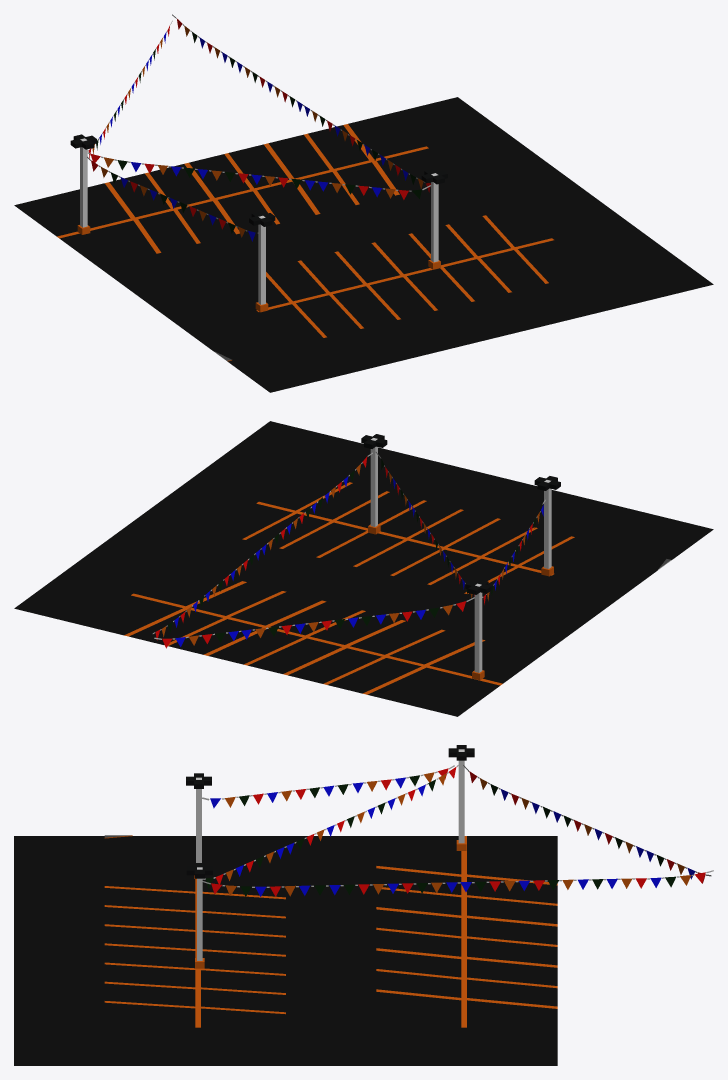
The model's file is 0C_sepg_rn.obj.
The picture shows the model from 3 angles, top to bottom: view 1: azimuth 30°, elevation 25°; view 2: azimuth 150°, elevation 25°; view 3: azimuth 270°, elevation 25°; orthographic projection. The views are drawn at different scales.
Visible parts, largest first — view 1: 0C_sepg_rn_Grid.016; view 2: 0C_sepg_rn_Grid.016; view 3: 0C_sepg_rn_Grid.016.
Boxes of the visible parts, x1,y1,x2,y2 form: 0C_sepg_rn_Grid.016: (14, 14, 713, 392); 0C_sepg_rn_Grid.016: (14, 421, 713, 716); 0C_sepg_rn_Grid.016: (14, 745, 713, 1065).
Size of the model in its own units: 16 by 3.19 by 20.6.
